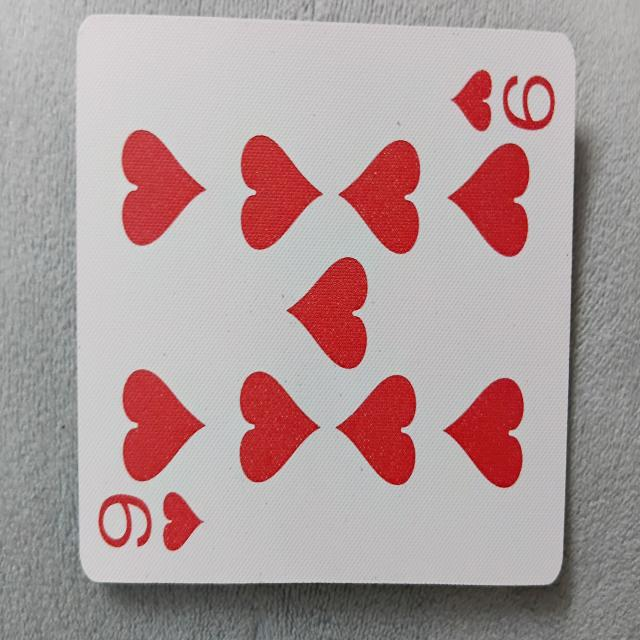9H: (74, 9, 570, 594)
